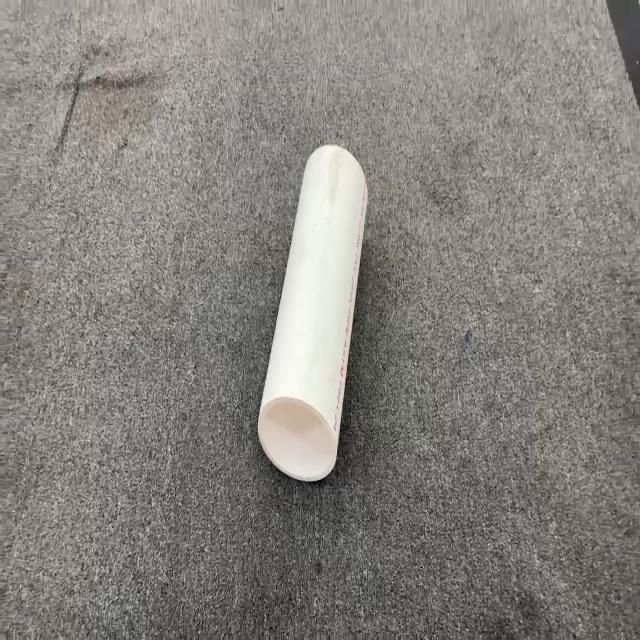coral: (256, 142, 368, 482)
